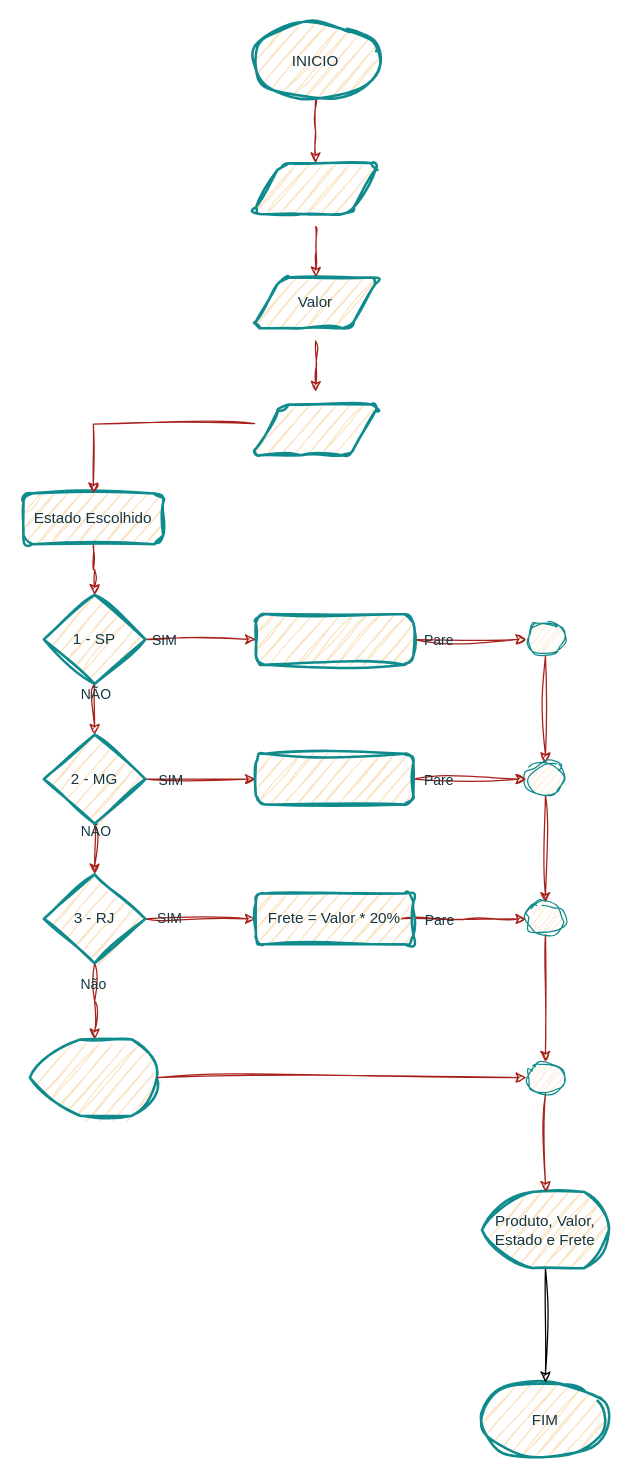
Some shapes in this 631 by 1481 pixel diagram are drawn without their labels. The shapes that lost their labels are listed below. From the top down, each one's centre as x and y in pixels, then its label:
At pixel 315 188: "Produto".
At pixel 315 429: "Estado".
At pixel 334 638: "Frete = Valor * 10%".
At pixel 334 778: "Frete = Valor * 15%".
At pixel 92 1077: "Retirar na Loja".
